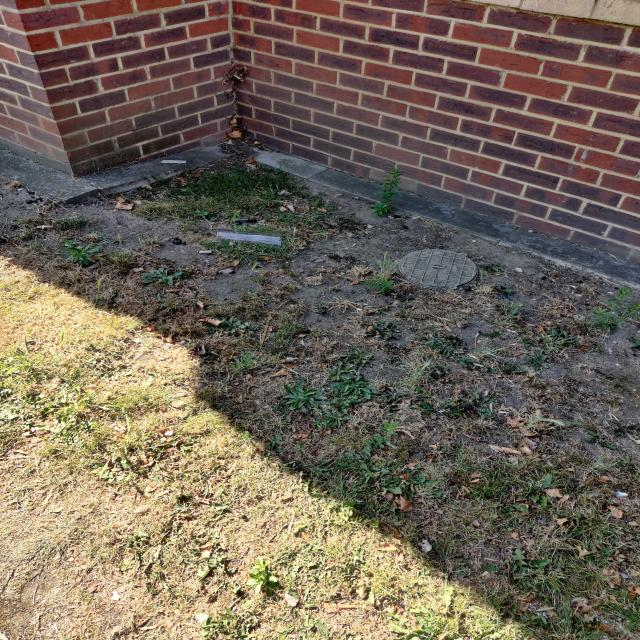litter: (217, 230, 286, 253)
